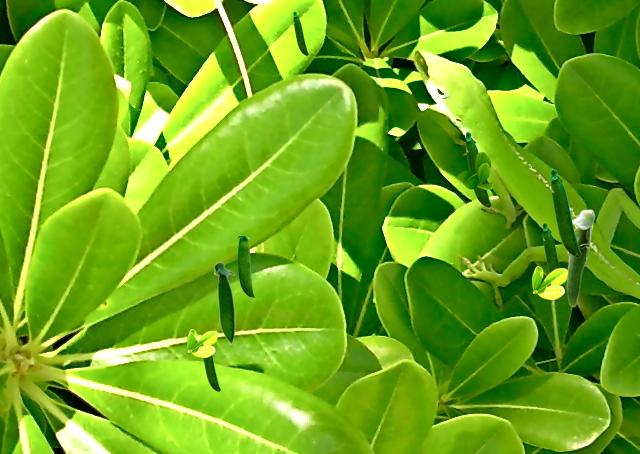pea: (566, 209, 594, 306), (550, 168, 580, 256), (465, 131, 490, 206), (213, 261, 234, 345), (542, 222, 564, 286), (201, 333, 219, 390), (238, 236, 253, 297), (293, 11, 307, 54)
